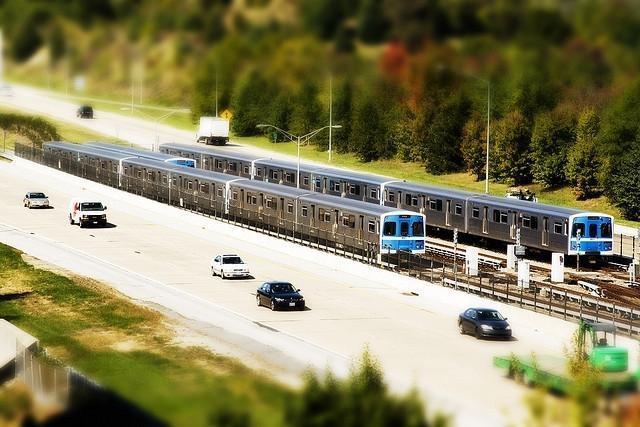car: (457, 309, 512, 340), (256, 282, 306, 311), (208, 249, 255, 277), (22, 192, 50, 209), (76, 105, 94, 118)
truck: (67, 195, 107, 227), (195, 116, 230, 146)
